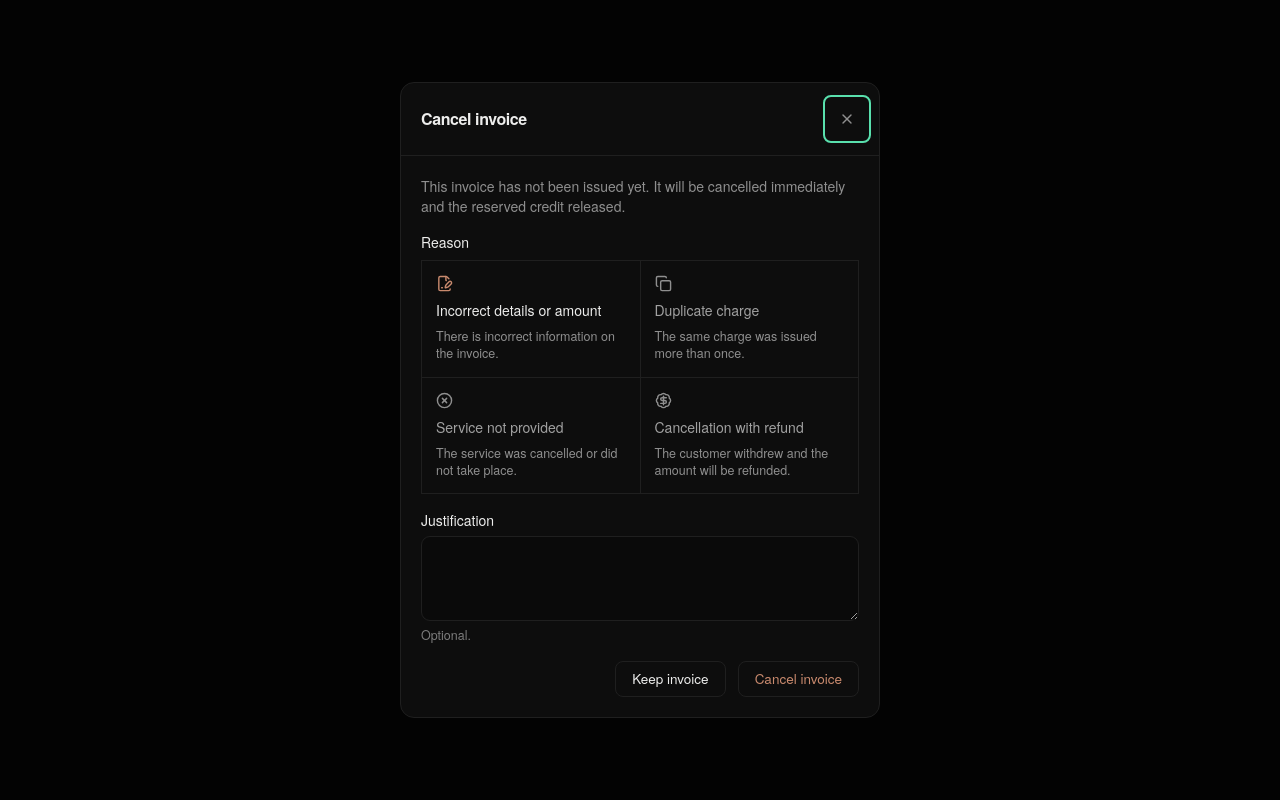
Test: CancelInvoiceDialog › shows the API error and keeps the dialog open
This screenshot has width=1280, height=800.
Click the button "Cancel invoice" at (798, 679), box left=738, top=661, right=859, bottom=697
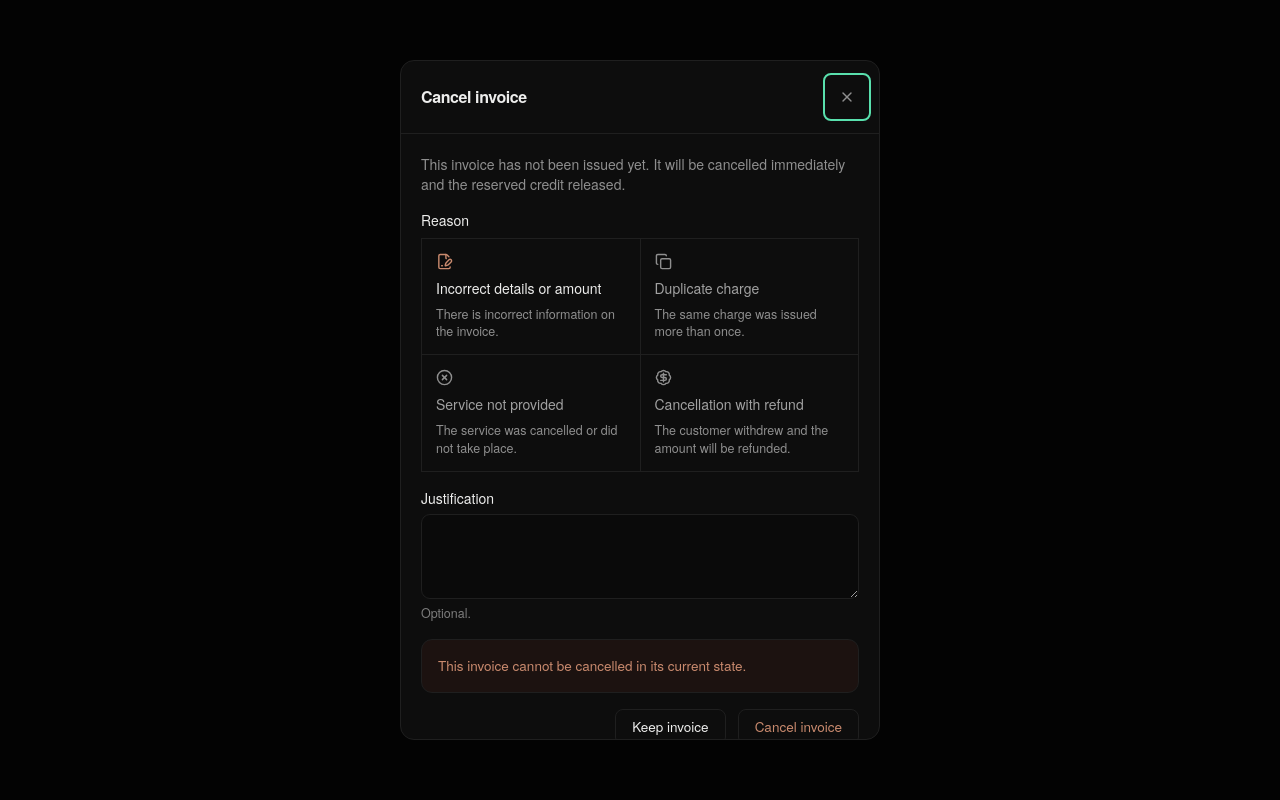
Expected: the message reads "This invoice cannot be cancelled in its current state.", left=438, top=656, right=746, bottom=675
